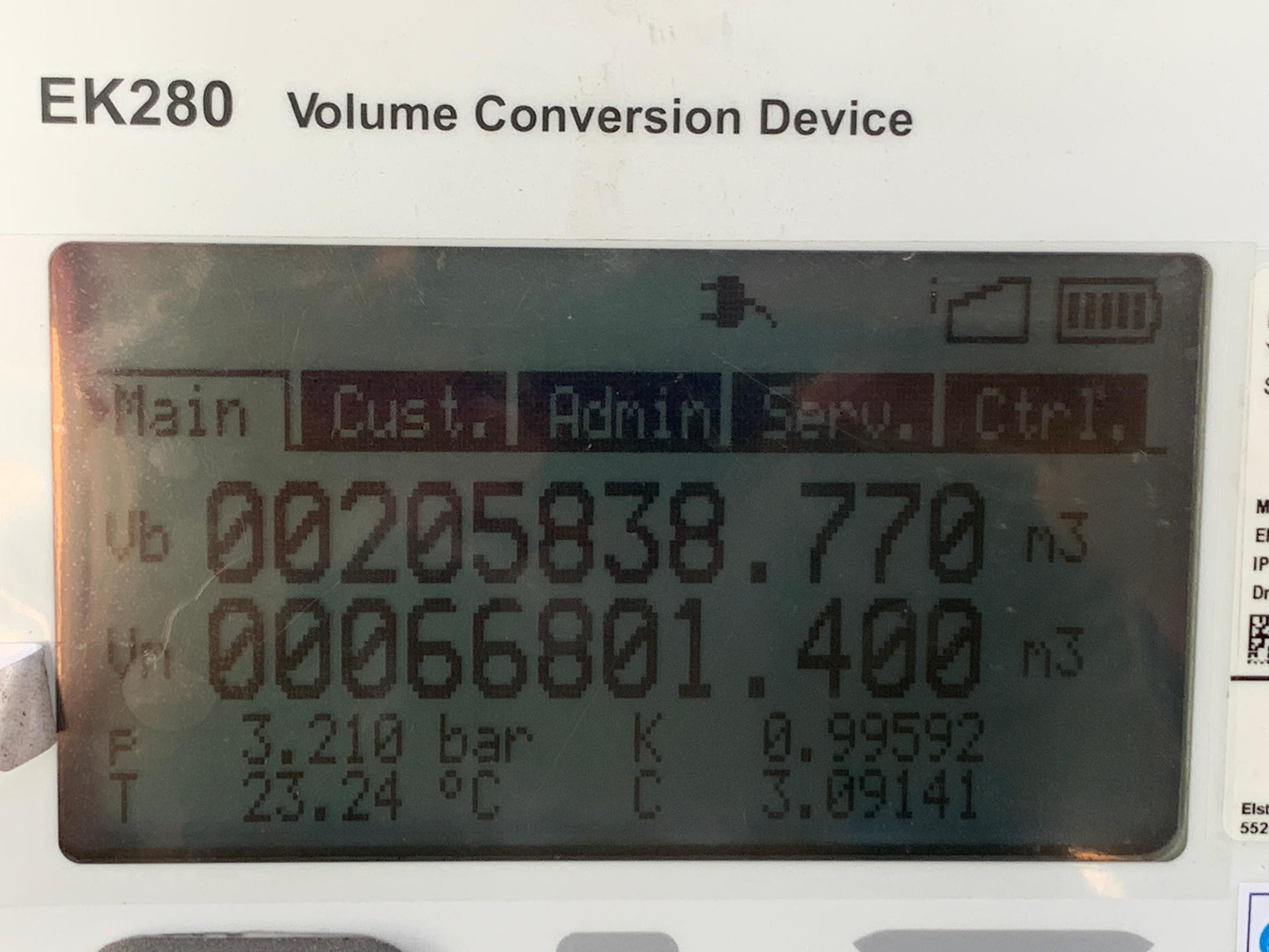digital_screen: (56, 247, 1208, 861)
